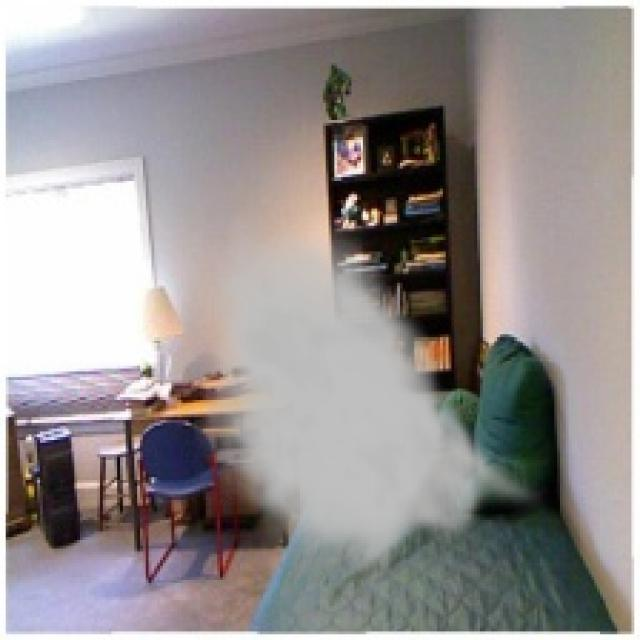smoke: (194, 208, 552, 583)
